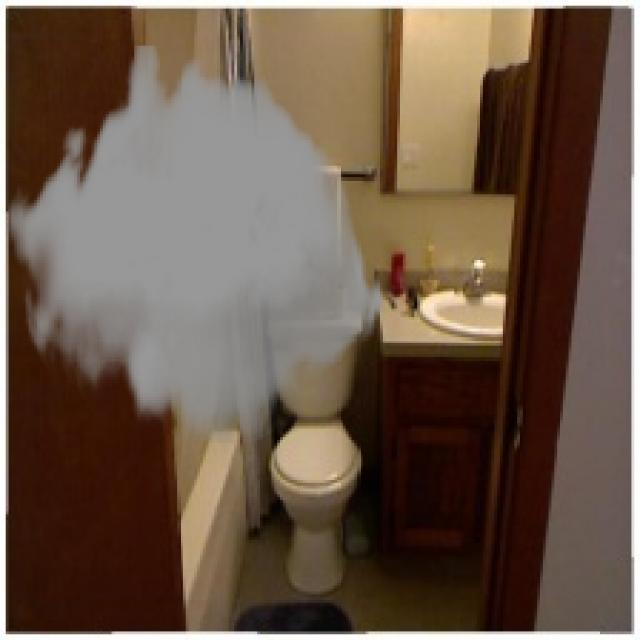Smoke: (6, 46, 386, 443)
